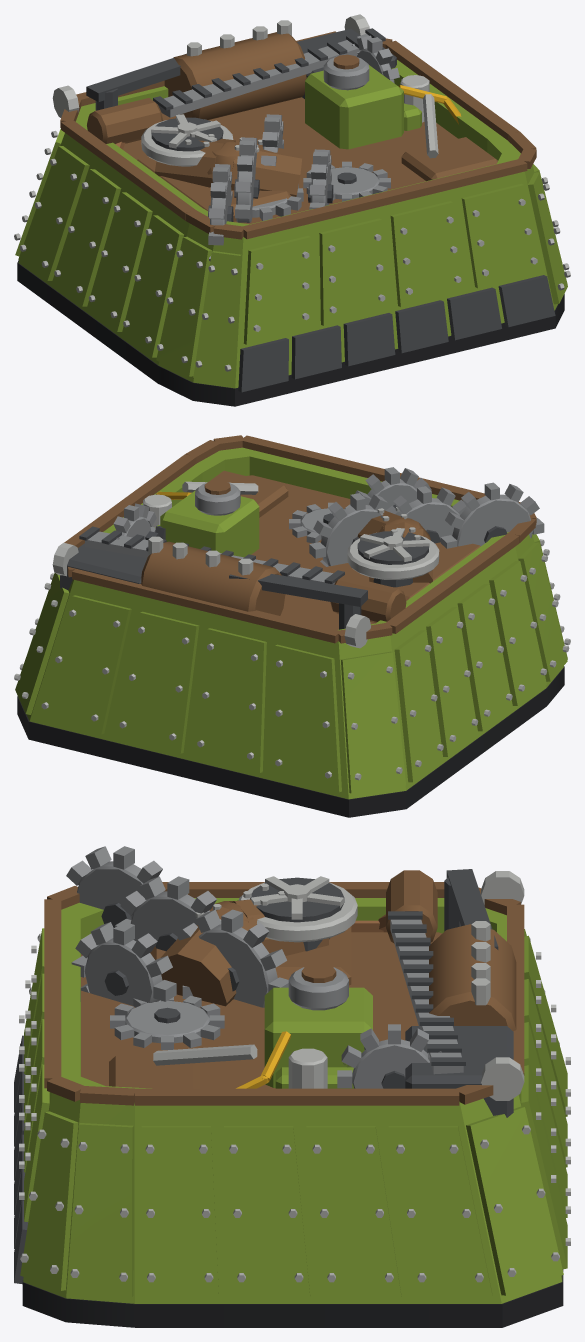
File: assembling-machine-3.glb
3 views of the same model, one above another, from view 1: azimuth 30°, elevation 25°; view 2: azimuth 150°, elevation 25°; view 3: azimuth 270°, elevation 25° (orthographic). The views are drawn at different scales.
Parts seen in each view (by area): view 1: body, anim_spin_arms; view 2: body; view 3: body.
Boxes of the visible parts, x1,y1,x2,y2 form: body: (14, 14, 570, 406); anim_spin_arms: (252, 184, 303, 220); body: (14, 435, 570, 817); body: (14, 846, 570, 1327).
Size of the model in its own units: 2.79 by 1.39 by 2.58.
